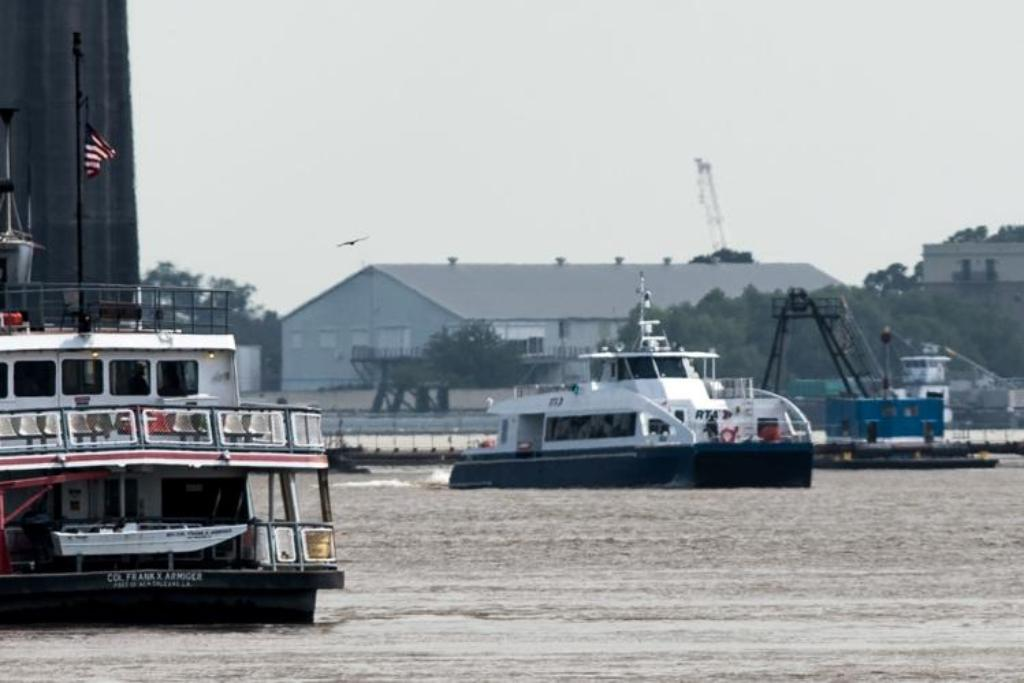PassengerShip: (0, 237, 354, 637), (442, 292, 830, 498)
